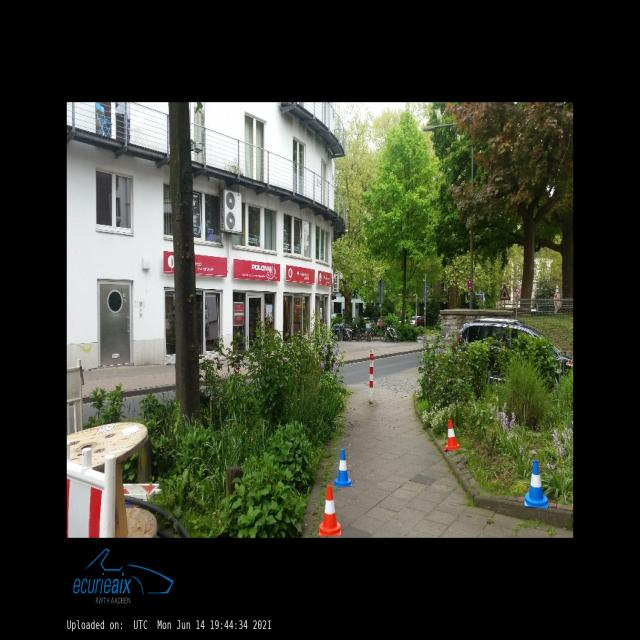blue_cone: (525, 460, 548, 508), (334, 449, 352, 487)
orange_cone: (319, 485, 341, 536), (444, 420, 460, 450)
